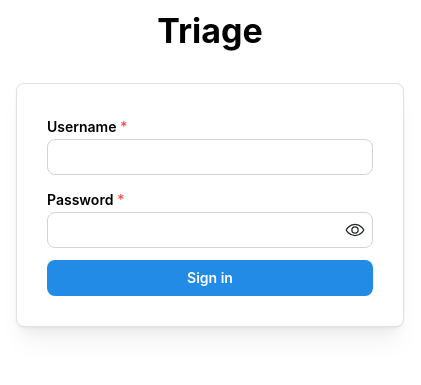
Test case: LoginPage › shows error message on failed login
Type "alice" into the field labelled "Username *" at x=210, y=157, box [47, 139, 373, 175]
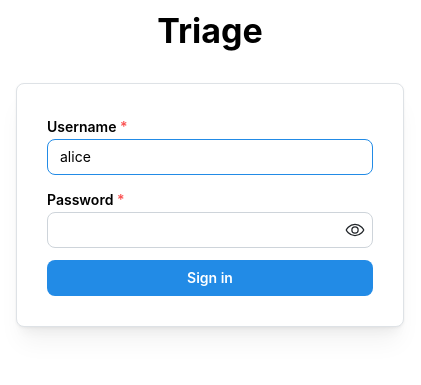
Type "wrong" into the password field labelled "Password *" at x=210, y=230, box [48, 213, 372, 247]
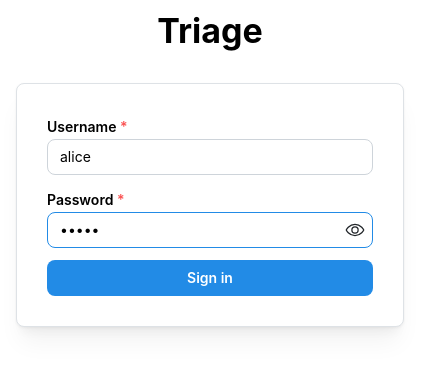
Click the button "Sign in" at x=210, y=278, box [47, 260, 373, 296]
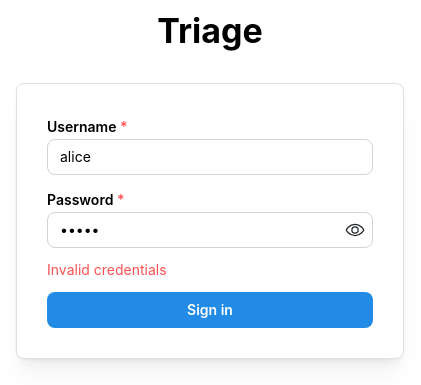
Now the text "Invalid credentials" is shown, box [47, 261, 167, 278]
